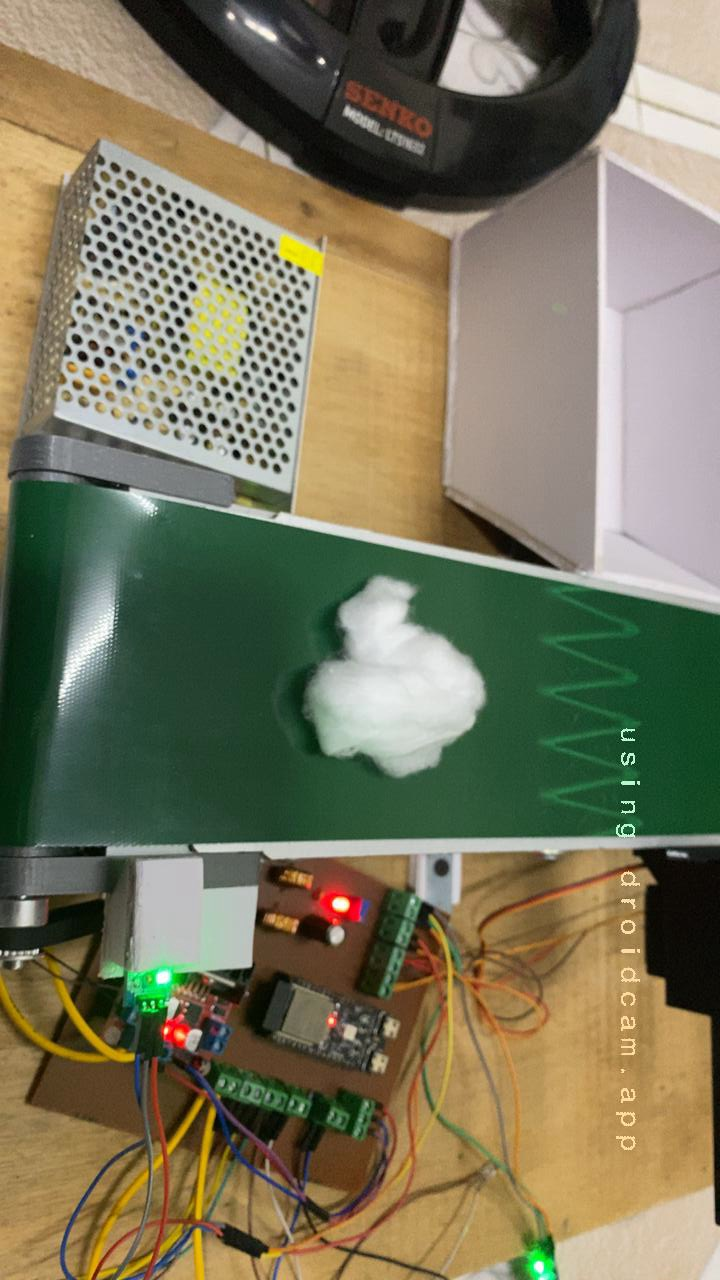cotton: (270, 556, 501, 802)
